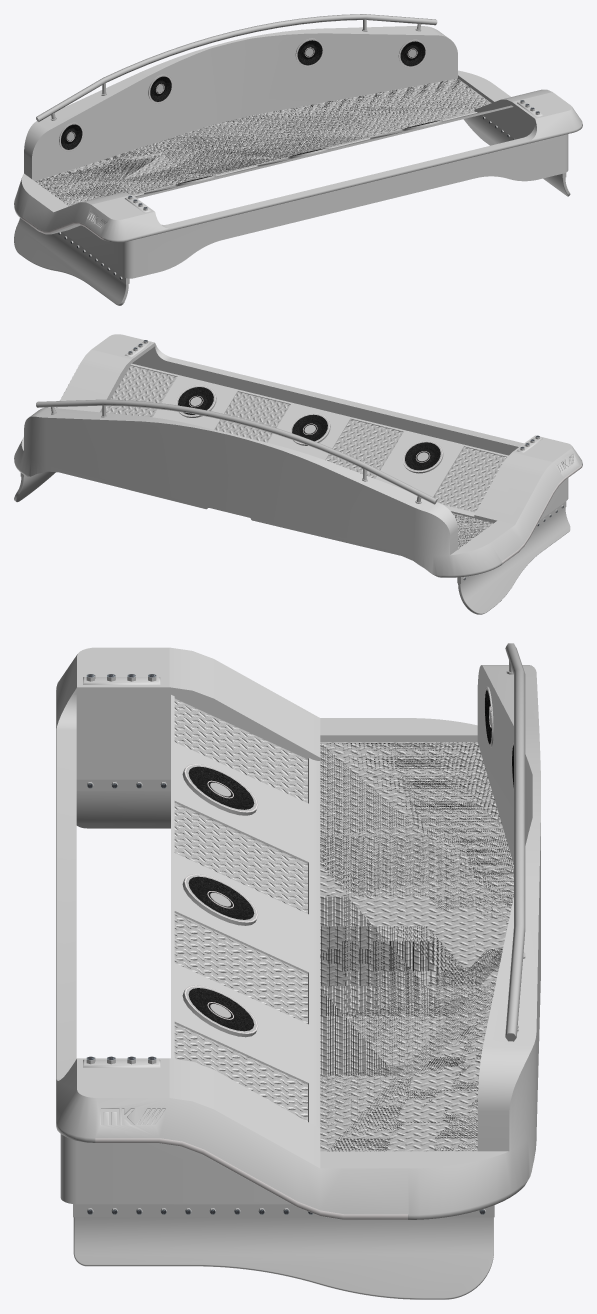
File: Main Car.dae
The picture shows the model from 3 angles, top to bottom: view 1: azimuth 30°, elevation 25°; view 2: azimuth 150°, elevation 25°; view 3: azimuth 270°, elevation 25°; orthographic projection. The views are drawn at different scales.
Parts seen in each view (by area): view 1: Component_7 (×7), SketchUp; view 2: Component_7 (×11), SketchUp; view 3: Component_7 (×14), SketchUp.
Part boxes in pixels (<box>): Component_7 (×7): <box>14,14,582,305</box>; SketchUp: <box>35,78,491,206</box>; Component_7 (×11): <box>14,334,582,614</box>; SketchUp: <box>452,513,493,549</box>; Component_7 (×14): <box>56,643,540,1299</box>; SketchUp: <box>320,742,513,1151</box>.
Bounding box in the file's own units: 107 × 46.71 × 32.56.
7 materials, 3 textured.
